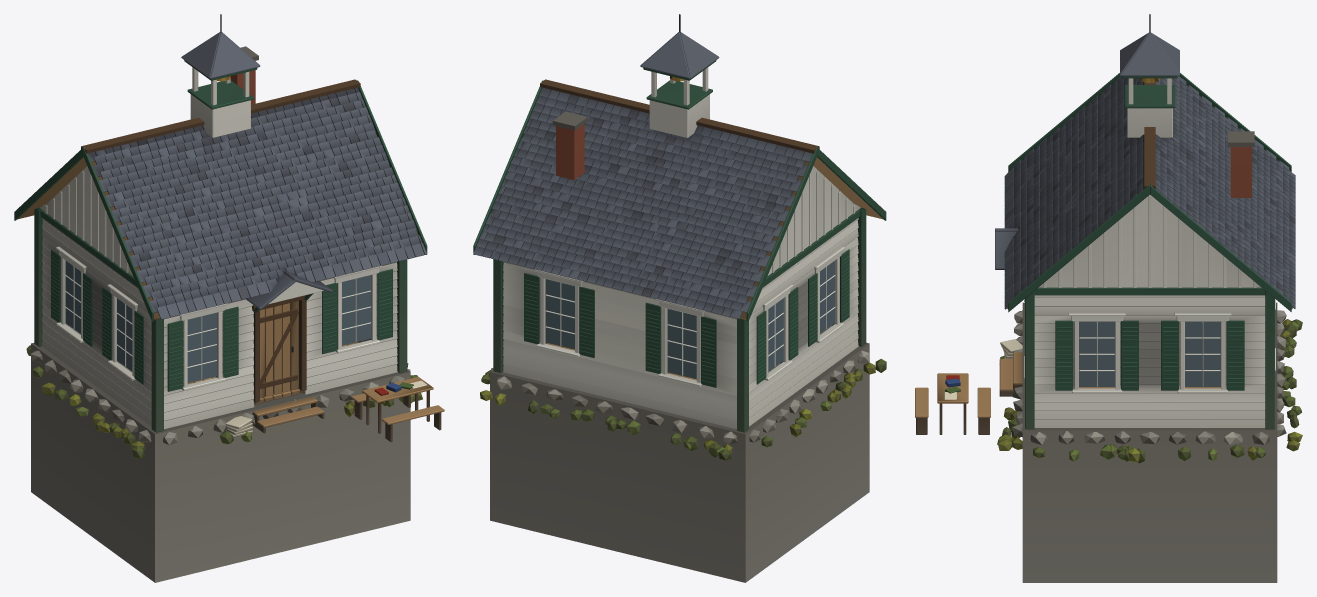
The model's file is okuma.glb.
3 renders of one model, left to right at view 1: azimuth 30°, elevation 25°; view 2: azimuth 150°, elevation 25°; view 3: azimuth 270°, elevation 25°, orthographic. The views are drawn at different scales.
Parts seen in each view (by area): view 1: stone-plinth-001, shingle-001, plank-wall-002, plank-belfry-041, plank-wall-018, plank-wall-010, plank-gable-019, plank-door-023, stone-found-004, plank-wall-012, plank-shutter-025, plank-table-042 (+22 smaller); view 2: stone-plinth-001, shingle-002, plank-wall-006, plank-belfry-041, plank-wall-018, plank-wall-007, plank-wall-010, plank-gable-019, stone-found-003, plank-wall-008, stone-found-004, plank-wall-012 (+18 smaller); view 3: stone-plinth-001, shingle-001, shingle-002, plank-gable-020, plank-wall-014, plank-wall-016, plank-belfry-041, plank-wall-018, plank-wall-015, stone-found-005, plank-barge-022, plank-shutter-033 (+14 smaller).
Part boxes in pixels (left/top/right/bottom): stone-plinth-001: left=31, top=343, right=410, bottom=582; shingle-001: left=88, top=87, right=426, bottom=319; plank-wall-002: left=164, top=330, right=397, bottom=429; plank-belfry-041: left=181, top=14, right=260, bottom=137; plank-wall-018: left=34, top=207, right=407, bottom=432; plank-wall-010: left=42, top=305, right=151, bottom=426; plank-gable-019: left=40, top=166, right=133, bottom=276; plank-door-023: left=259, top=301, right=298, bottom=398; stone-found-004: left=30, top=350, right=151, bottom=459; plank-wall-012: left=42, top=220, right=151, bottom=341; plank-shutter-025: left=167, top=306, right=238, bottom=391; plank-table-042: left=351, top=377, right=444, bottom=441; stone-plinth-001: left=490, top=342, right=869, bottom=582; shingle-002: left=473, top=87, right=812, bottom=319; plank-wall-006: left=503, top=330, right=736, bottom=429; plank-belfry-041: left=640, top=14, right=719, bottom=137; plank-wall-018: left=493, top=207, right=866, bottom=432; plank-wall-007: left=503, top=288, right=736, bottom=387; plank-wall-010: left=749, top=305, right=858, bottom=426; plank-gable-019: left=767, top=166, right=860, bottom=276; stone-found-003: left=480, top=376, right=737, bottom=460; plank-wall-008: left=503, top=261, right=736, bottom=344; stone-found-004: left=749, top=350, right=886, bottom=447; plank-wall-012: left=749, top=220, right=858, bottom=341; stone-plinth-001: left=1022, top=302, right=1277, bottom=582; shingle-001: left=1004, top=76, right=1144, bottom=309; shingle-002: left=1155, top=76, right=1295, bottom=309; plank-gable-020: left=1038, top=195, right=1261, bottom=287; plank-wall-014: left=1034, top=385, right=1265, bottom=427; plank-wall-016: left=1034, top=298, right=1265, bottom=341; plank-belfry-041: left=1120, top=14, right=1179, bottom=137; plank-wall-018: left=1025, top=287, right=1274, bottom=429; plank-wall-015: left=1034, top=341, right=1265, bottom=384; stone-found-005: left=1030, top=431, right=1269, bottom=463; plank-barge-022: left=1008, top=184, right=1291, bottom=312; plank-shutter-033: left=1055, top=320, right=1138, bottom=390.
Bounding box in the file's own units: 7.39 × 11.6 × 8.07.
